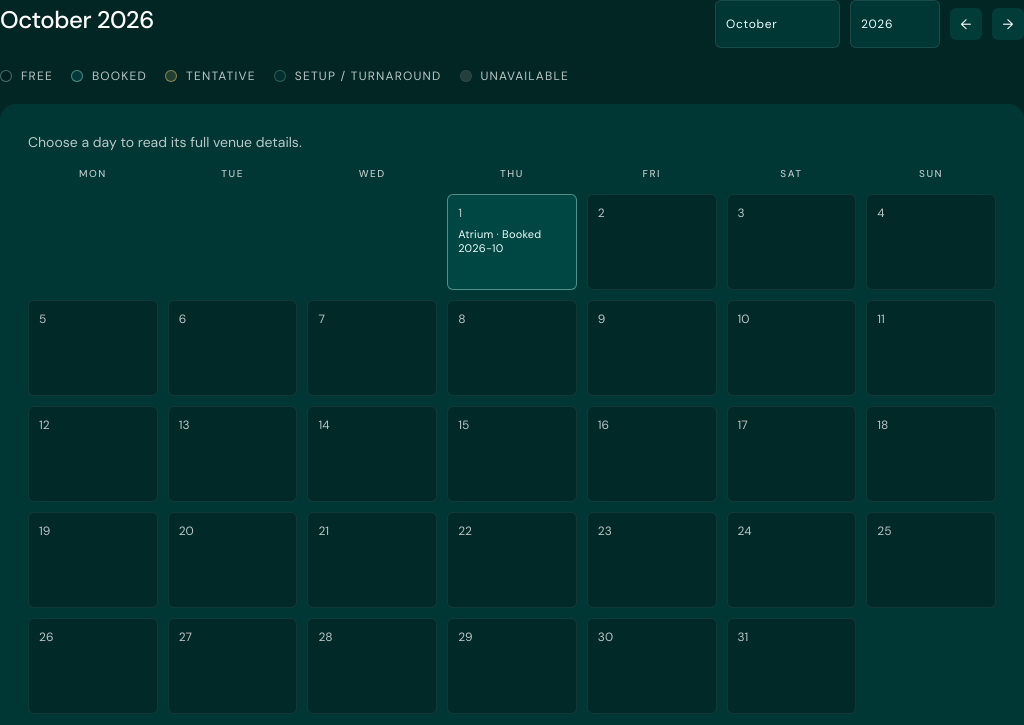
it: [NORMAL] [SG2-44:AC1] moving to the next month re-fetches a new date range
This screenshot has width=1024, height=725.
Expected: the text "Atrium · Booked 2026-10" is shown, [458,227,541,255]
Click the button named "Next month" at (1008, 24), box [992,8,1023,40]
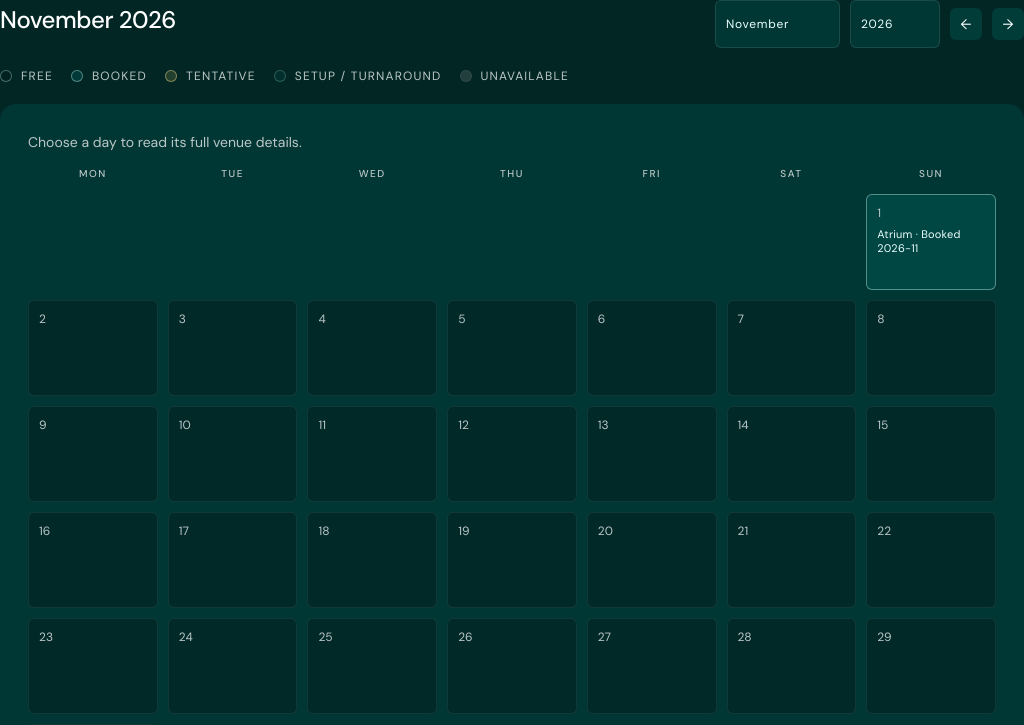
Expected: the text "Atrium · Booked 2026-11" is shown, [877,227,961,255]
Expected: the heading "November 2026" is shown, [0,4,176,35]
Expected: the button "Atrium · Booked 2026-10" is gone
Click the button named "Previous month" at (966, 24), box [950,8,982,40]
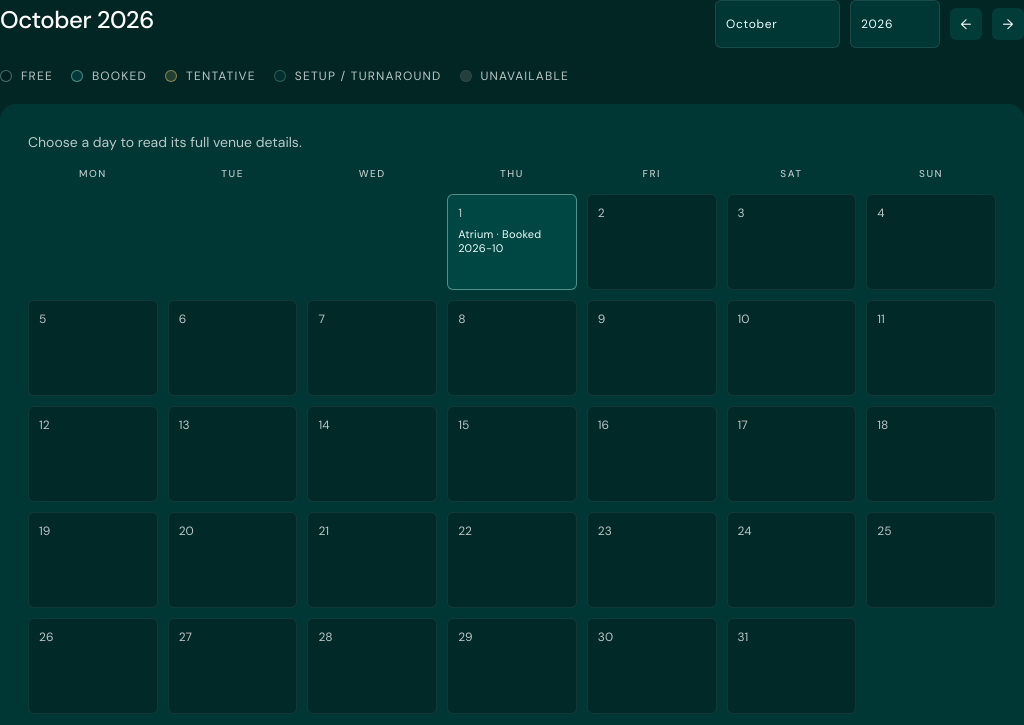
Expected: the text "Atrium · Booked 2026-10" is shown, [458,227,541,255]
Expected: the heading "October 2026" is shown, [0,4,154,35]
Expected: the button "Atrium · Booked 2026-11" is gone
